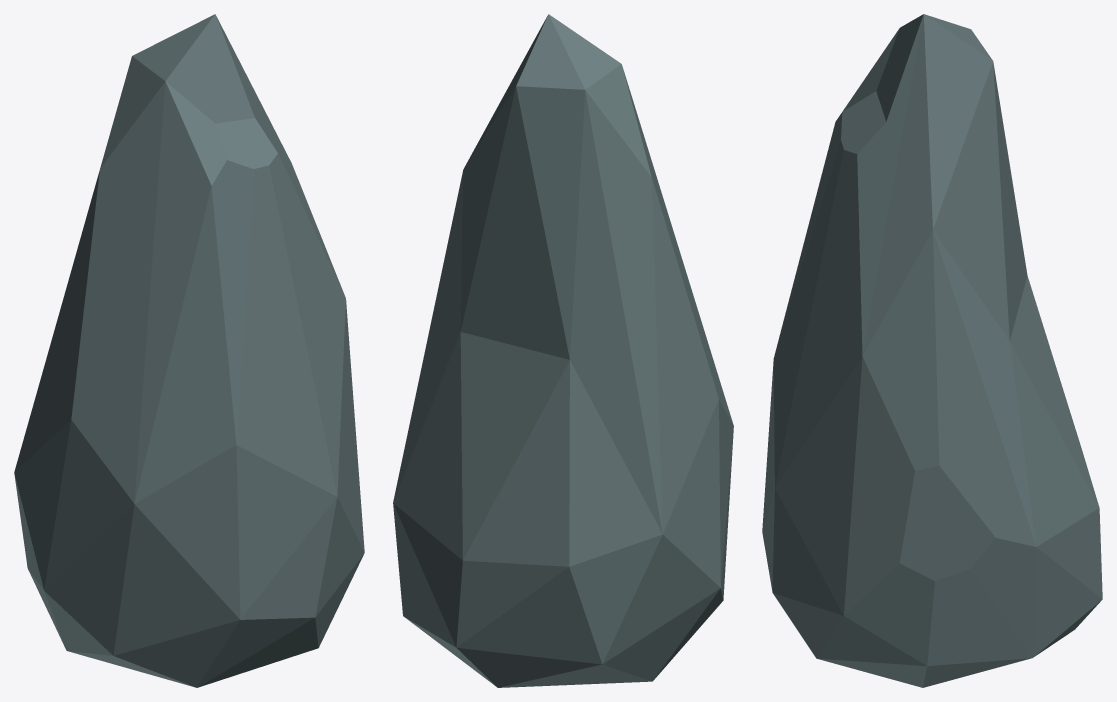
File: Stone_3.glb
3 views of the same model, side by side, from view 1: azimuth 30°, elevation 25°; view 2: azimuth 150°, elevation 25°; view 3: azimuth 270°, elevation 25° (orthographic). The views are drawn at different scales.
Visible parts, largest first — view 1: Stone.003; view 2: Stone.003; view 3: Stone.003.
Boxes of the visible parts, bbox=[...] form: Stone.003: bbox=[14, 14, 364, 687]; Stone.003: bbox=[393, 14, 733, 687]; Stone.003: bbox=[762, 14, 1102, 687].
Size of the model in its own units: 1.97 by 3.97 by 1.91.
